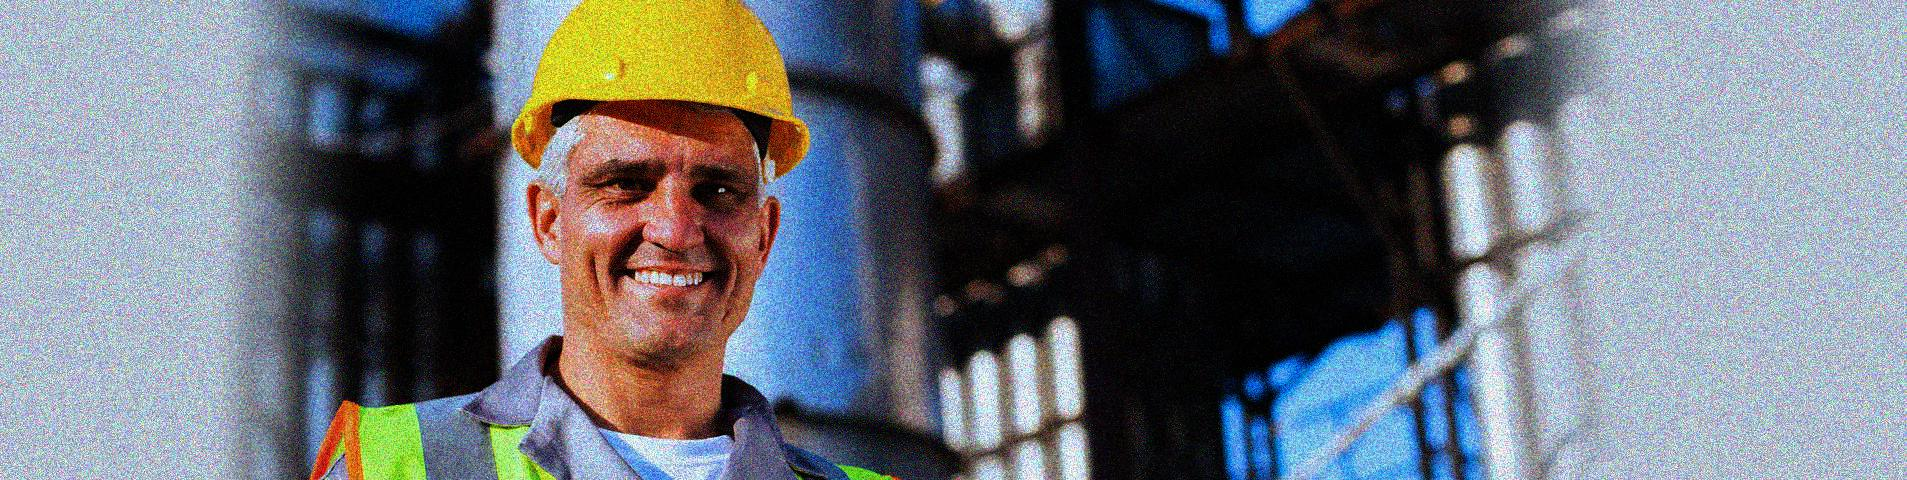helmet: (508, 1, 817, 341)
